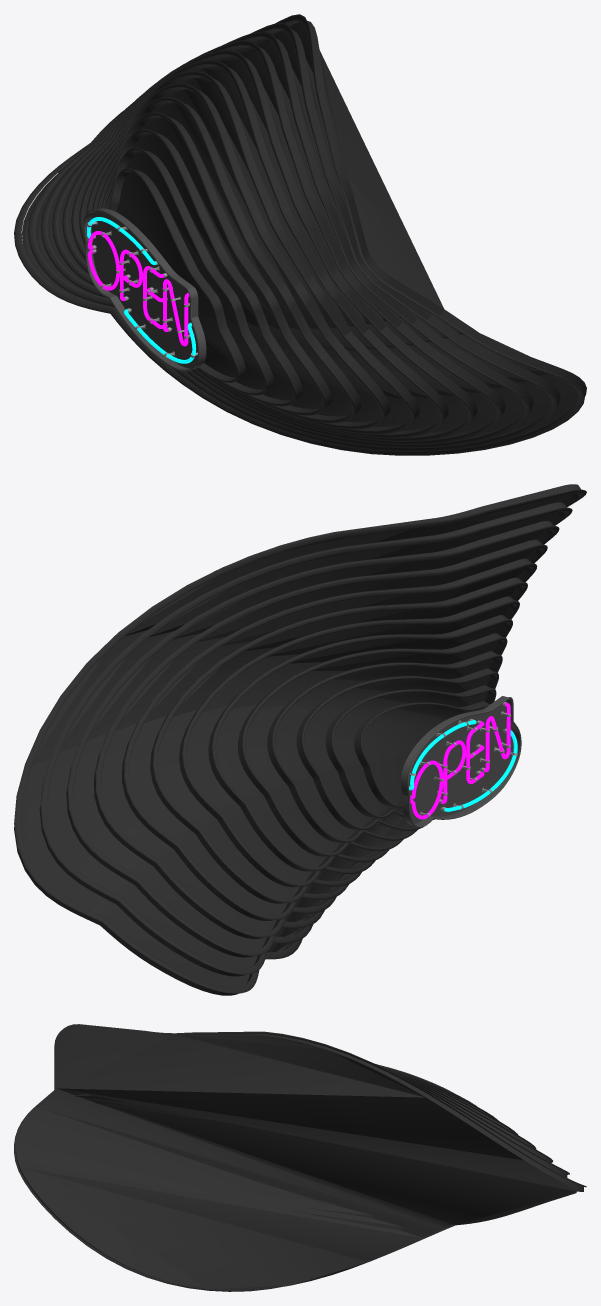
The model's file is Project Name.gltf.
The picture shows the model from 3 angles, top to bottom: view 1: azimuth 30°, elevation 25°; view 2: azimuth 150°, elevation 25°; view 3: azimuth 270°, elevation 25°; orthographic projection. The views are drawn at different scales.
Visible parts, largest first — view 1: Background (×14), Glass neon tube open sign, Glass neon tube, Metal hatches; view 2: Background (×14), Glass neon tube open sign, Glass neon tube, Metal hatches; view 3: Background (×5).
Part boxes in pixels (x1,y1,x2,y2): Background (×14): [14, 14, 586, 455]; Glass neon tube open sign: [87, 231, 189, 346]; Glass neon tube: [87, 217, 196, 363]; Metal hatches: [87, 221, 197, 357]; Background (×14): [14, 484, 586, 995]; Glass neon tube open sign: [410, 702, 510, 819]; Glass neon tube: [409, 719, 517, 811]; Metal hatches: [409, 702, 517, 817]; Background (×5): [14, 1024, 586, 1291].
Bounding box in the file's own units: 0.2243 × 0.2847 × 0.5892.
